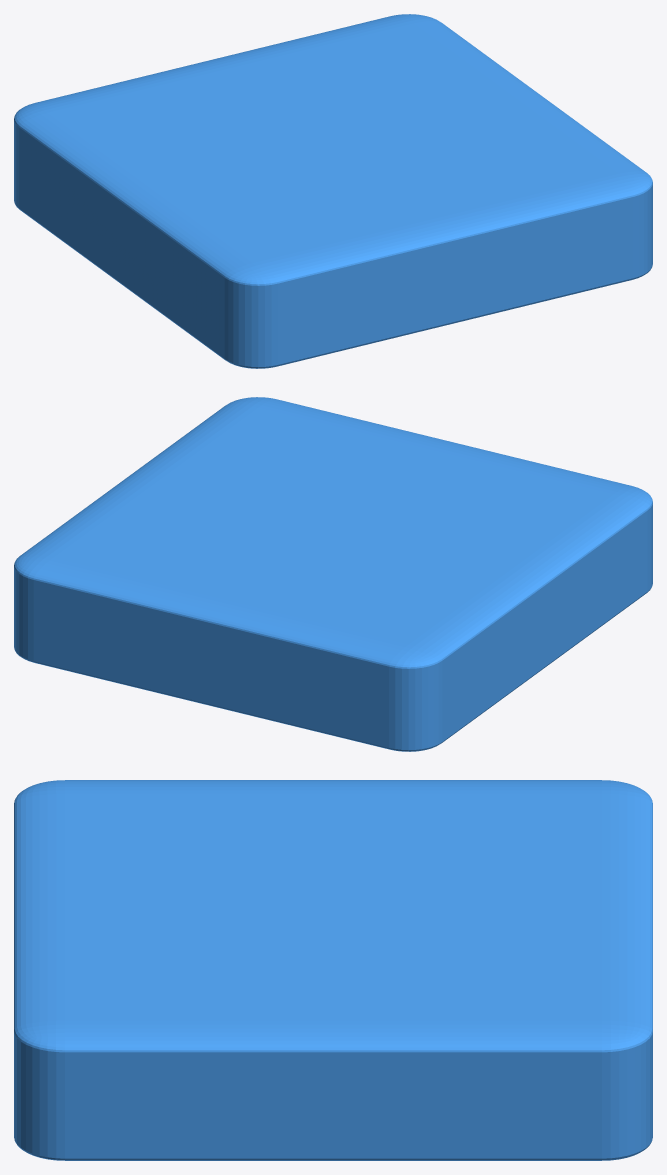
Rendered from tsBg.glb.
3 views of the same model, one above another, from view 1: azimuth 30°, elevation 25°; view 2: azimuth 150°, elevation 25°; view 3: azimuth 270°, elevation 25° (orthographic). The views are drawn at different scales.
Parts seen in each view (by area): view 1: ts; view 2: ts; view 3: ts.
Part boxes in pixels (left/top/right/bottom): ts: left=14, top=14, right=652, bottom=368; ts: left=14, top=397, right=652, bottom=751; ts: left=14, top=780, right=652, bottom=1160.
Size of the model in its own units: 2 by 0.437 by 2.
